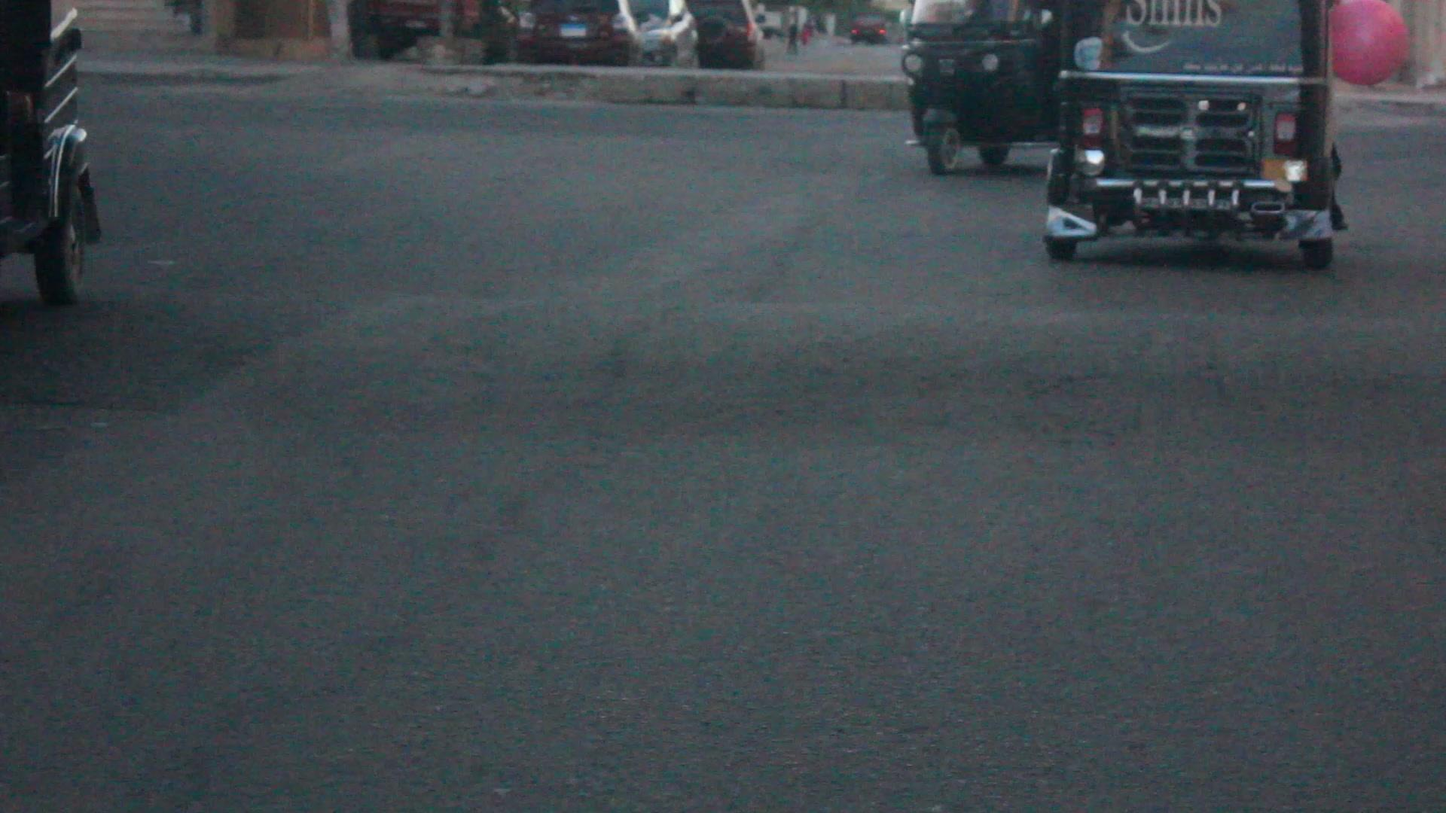Bump: (2, 286, 1446, 465)
